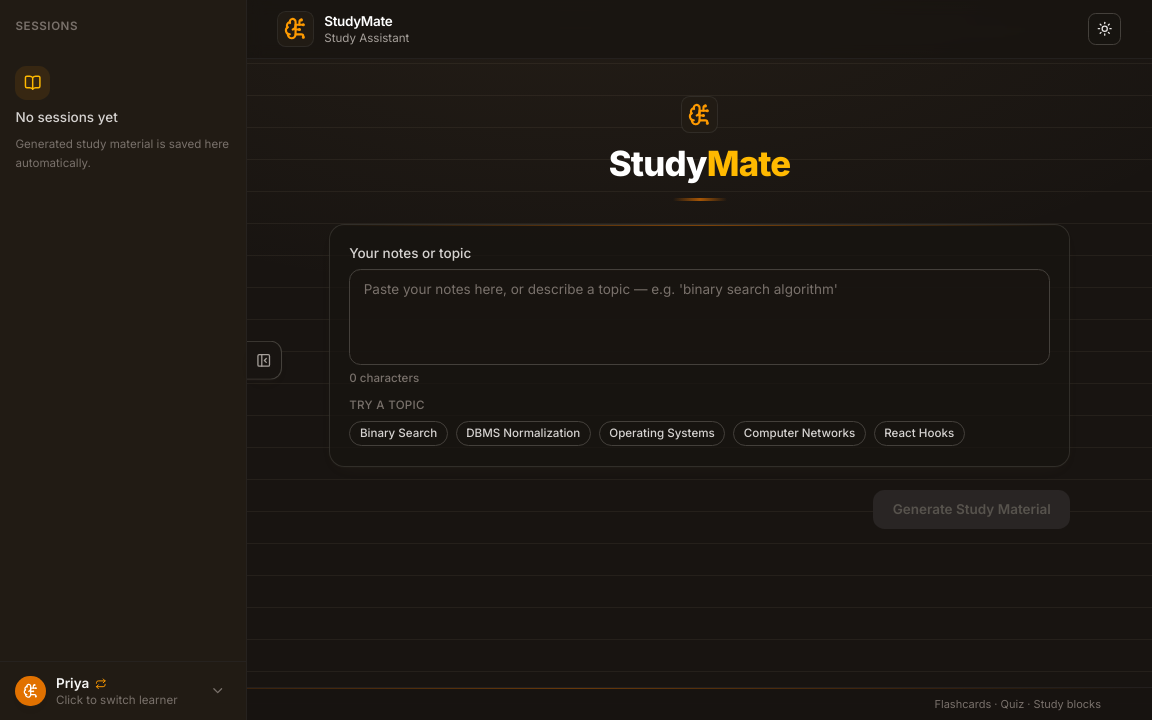
Test: App generation flow › shows a loading state and lets a new request supersede while generating
Replace the text in the text box labelled "Your notes or topic" with "React" at [700, 317], box [349, 269, 1050, 365]
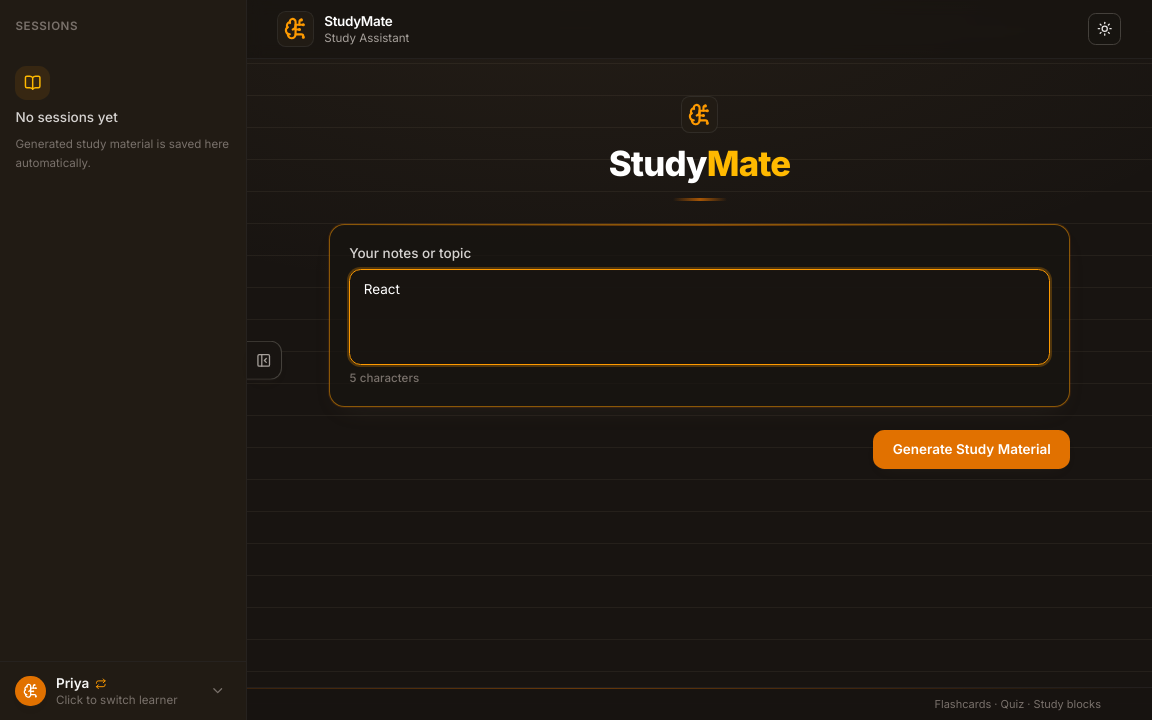
Click the button "Generate Study Material" at [972, 449], box [873, 430, 1070, 469]
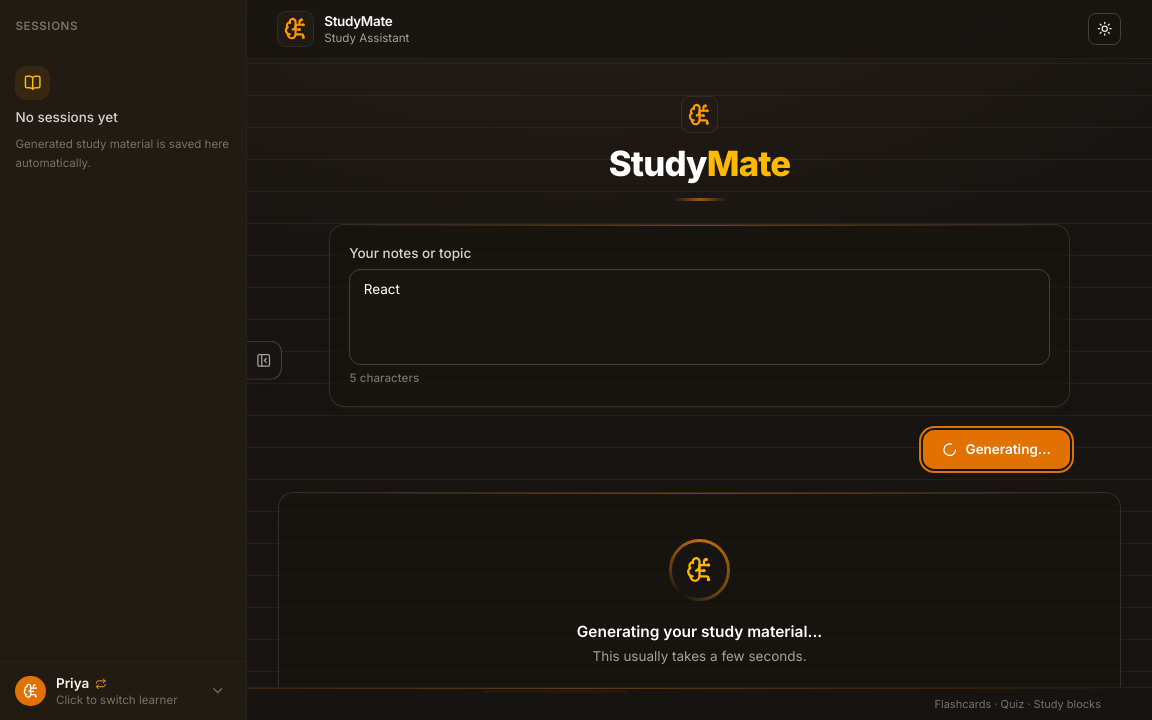
Check: the button "Generating..." is enabled, box [923, 430, 1070, 469]
Check: the heading "Generating your study material..." is shown, box [577, 620, 822, 643]
